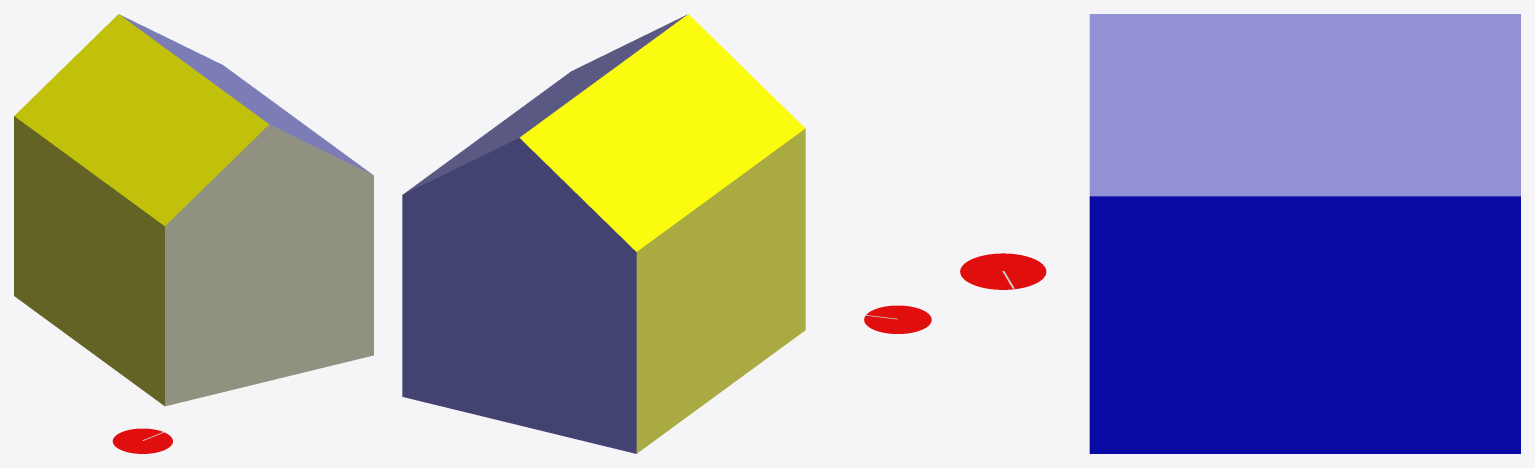
Rendered from result.glb.
3 renders of one model, left to right at view 1: azimuth 30°, elevation 25°; view 2: azimuth 150°, elevation 25°; view 3: azimuth 270°, elevation 25°, orthographic. The views are drawn at different scales.
Parts seen in each view (by area): view 1: b608c4f6-c993-4d16-b927-8fc930e1d94b__undefined, bf068246-f25b-42d0-9855-1de24e626120__undefined, a30b3b44-b7e2-4217-bc02-1d7c6e47c34f__undefined, 7434e354-7fdc-4d50-a511-02b5ad988029__undefined, 513c1dc7-7a98-48ee-9c42-84e2a35659bc__Circle; view 2: 794bc176-54d4-4d2c-aa4f-5ee6dbb6de66__undefined, bf068246-f25b-42d0-9855-1de24e626120__undefined, a30b3b44-b7e2-4217-bc02-1d7c6e47c34f__undefined, 7434e354-7fdc-4d50-a511-02b5ad988029__undefined, 513c1dc7-7a98-48ee-9c42-84e2a35659bc__Circle; view 3: d016f9ae-3374-4072-9a1e-b3aaf6ecb4a0__undefined, 7434e354-7fdc-4d50-a511-02b5ad988029__undefined, 513c1dc7-7a98-48ee-9c42-84e2a35659bc__Circle.
Part boxes in pixels (left/top/right/bottom): b608c4f6-c993-4d16-b927-8fc930e1d94b__undefined: left=165, top=124, right=373, bottom=406; bf068246-f25b-42d0-9855-1de24e626120__undefined: left=14, top=116, right=164, bottom=405; a30b3b44-b7e2-4217-bc02-1d7c6e47c34f__undefined: left=14, top=14, right=268, bottom=225; 7434e354-7fdc-4d50-a511-02b5ad988029__undefined: left=119, top=14, right=372, bottom=174; 513c1dc7-7a98-48ee-9c42-84e2a35659bc__Circle: left=112, top=428, right=172, bottom=453; 794bc176-54d4-4d2c-aa4f-5ee6dbb6de66__undefined: left=402, top=138, right=636, bottom=453; bf068246-f25b-42d0-9855-1de24e626120__undefined: left=636, top=128, right=805, bottom=453; a30b3b44-b7e2-4217-bc02-1d7c6e47c34f__undefined: left=519, top=14, right=805, bottom=251; 7434e354-7fdc-4d50-a511-02b5ad988029__undefined: left=403, top=14, right=687, bottom=194; 513c1dc7-7a98-48ee-9c42-84e2a35659bc__Circle: left=864, top=305, right=931, bottom=333; d016f9ae-3374-4072-9a1e-b3aaf6ecb4a0__undefined: left=1089, top=196, right=1520, bottom=453; 7434e354-7fdc-4d50-a511-02b5ad988029__undefined: left=1089, top=14, right=1520, bottom=196; 513c1dc7-7a98-48ee-9c42-84e2a35659bc__Circle: left=960, top=253, right=1046, bottom=289.
Bounding box in the file's own units: 550 × 469 × 650.
